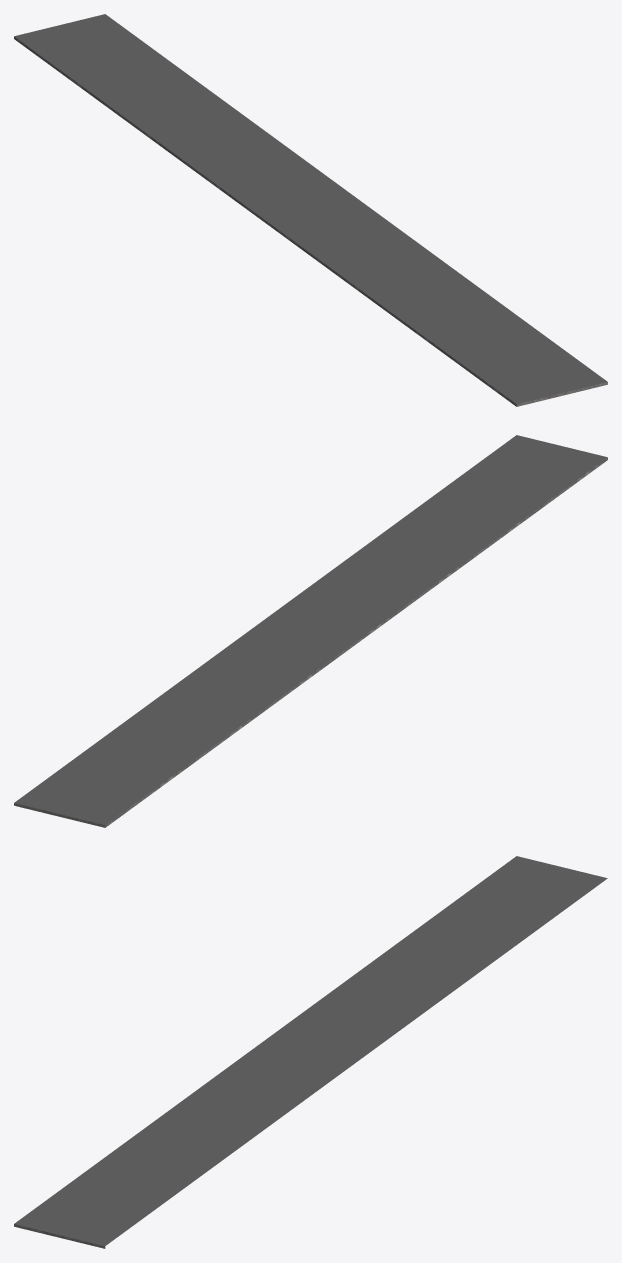
The model's file is ground.glb.
The picture shows the model from 3 angles, top to bottom: view 1: azimuth 30°, elevation 25°; view 2: azimuth 150°, elevation 25°; view 3: azimuth 330°, elevation 25°; orthographic projection.
Visible parts, largest first — view 1: Object001_2, Object001_1; view 2: Object001_2, Object001_1; view 3: Object001_2.
Part boxes in pixels (<box>): Object001_2: <box>14,14,607,403</box>; Object001_1: <box>14,36,607,406</box>; Object001_2: <box>14,435,607,824</box>; Object001_1: <box>14,457,607,827</box>; Object001_2: <box>14,856,607,1245</box>.
Size of the model in its own units: 3.5 by 0.1 by 33.37.
Materials: 2 (2 with a texture image).
